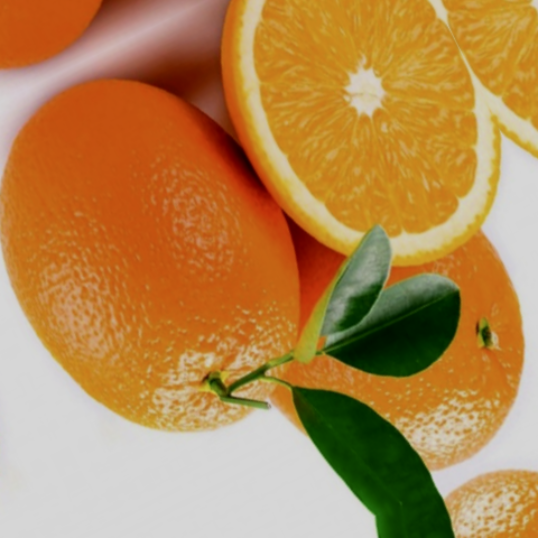orange: (0, 3, 392, 526), (155, 97, 538, 538)
